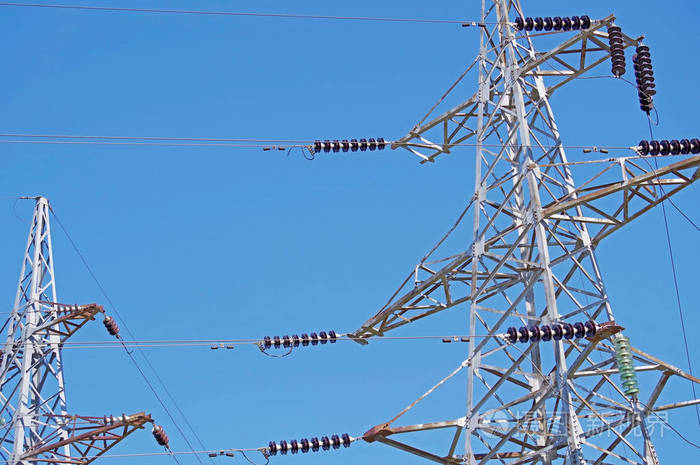insulator: (508, 319, 597, 347), (265, 432, 354, 457), (612, 337, 638, 396), (264, 331, 339, 350), (633, 46, 654, 113), (515, 15, 590, 32), (314, 137, 384, 155), (641, 137, 699, 157), (607, 26, 626, 78)
